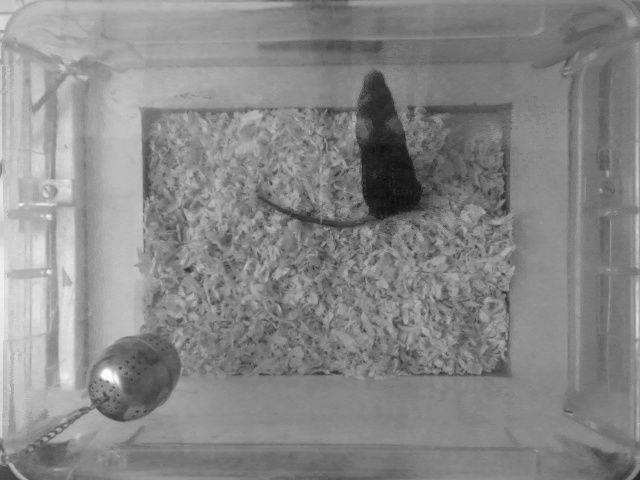mice: (256, 67, 424, 228)
